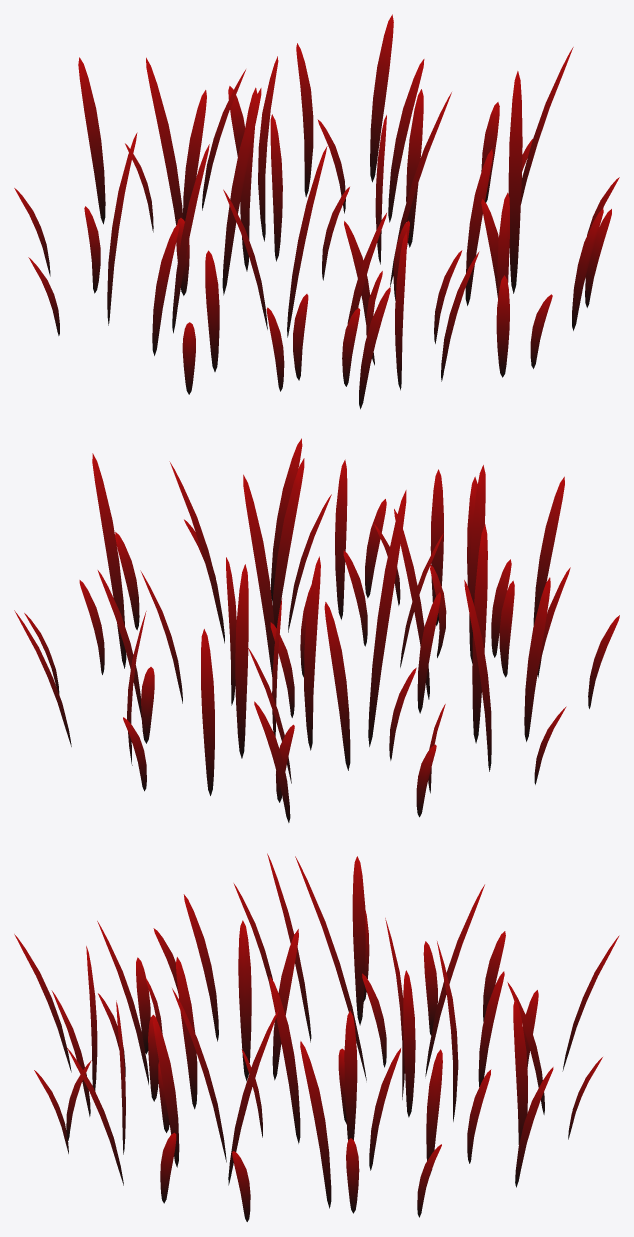
File: Stylised Grass 1.fbx
3 views of the same model, one above another, from view 1: azimuth 30°, elevation 25°; view 2: azimuth 150°, elevation 25°; view 3: azimuth 270°, elevation 25° (orthographic). The views are drawn at different scales.
Parts seen in each view (by area): view 1: Grass; view 2: Grass; view 3: Grass.
Boxes of the visible parts, left/top/right/bottom form: Grass: left=14, top=14, right=619, bottom=409; Grass: left=14, top=438, right=619, bottom=822; Grass: left=14, top=853, right=619, bottom=1221.
Size of the model in its own units: 629 by 270 by 649.
